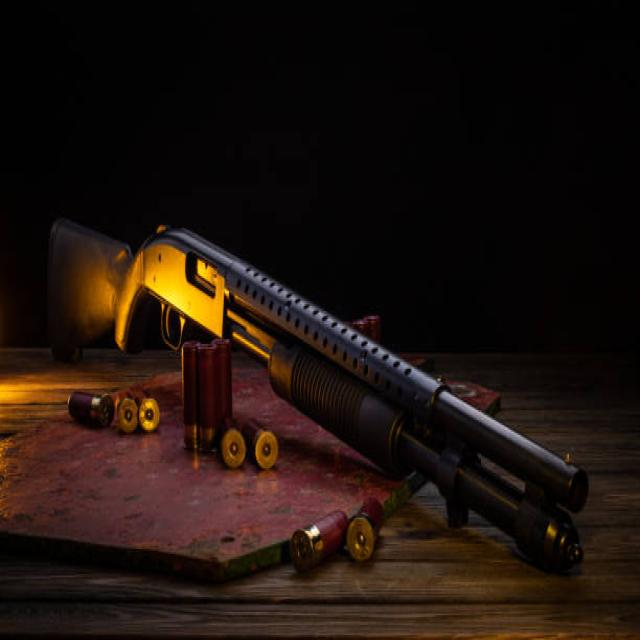ShotGun: (47, 218, 589, 580)
